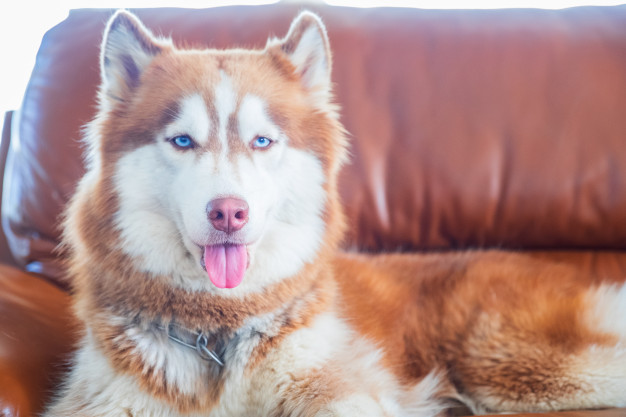husky: (62, 3, 367, 415)
